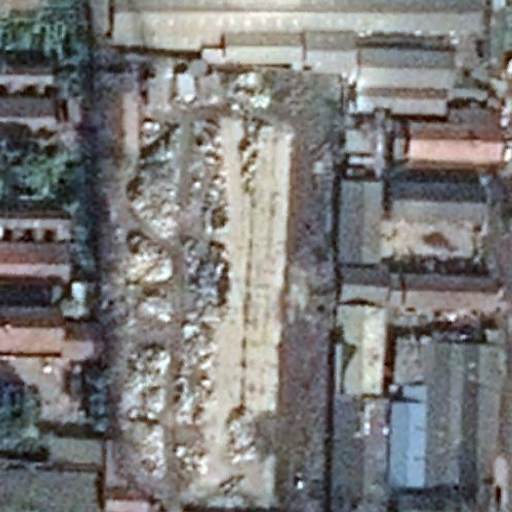msw: (110, 93, 226, 487)
